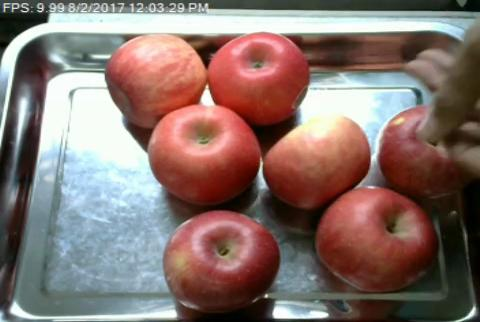apple: (316, 187, 440, 293), (162, 209, 280, 313), (148, 111, 261, 203), (265, 114, 372, 207), (105, 35, 206, 127), (208, 32, 311, 117), (378, 106, 461, 198)
